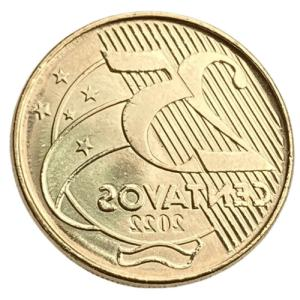25 cent: (9, 10, 294, 288)
